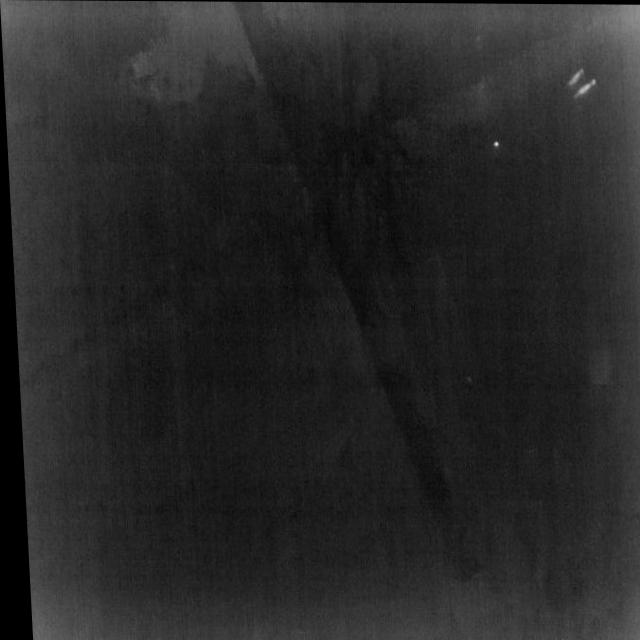deer: (571, 77, 596, 99), (565, 66, 584, 86)
